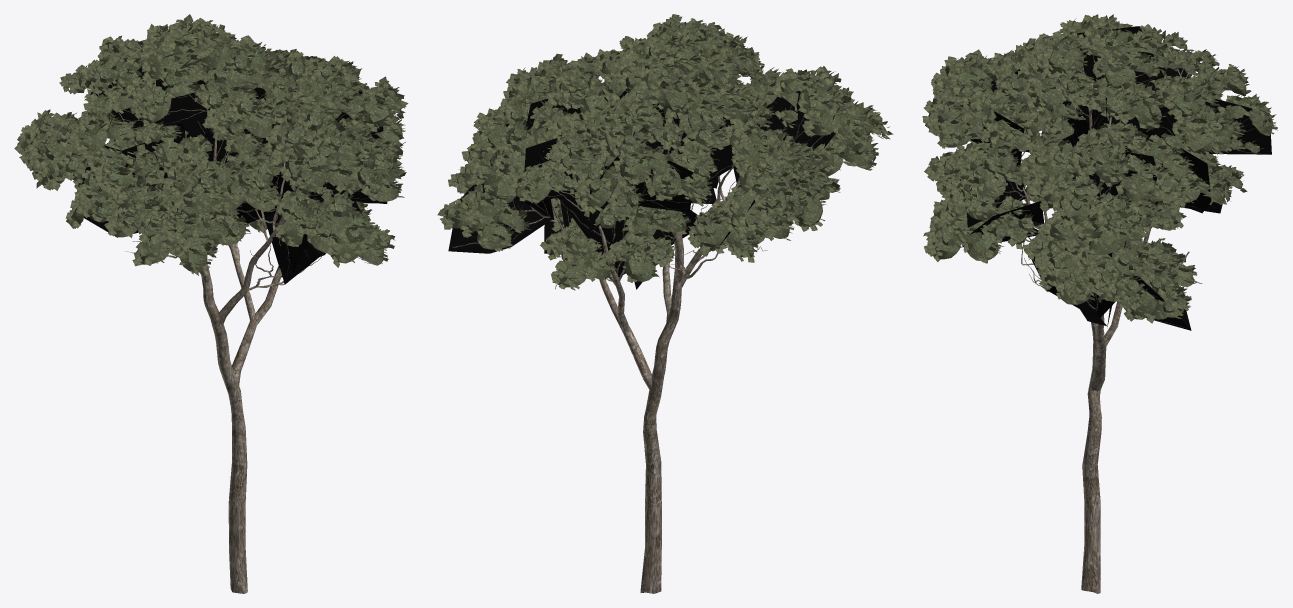
The model's file is J TREE.fbx.
The picture shows the model from 3 angles, left to right: view 1: azimuth 30°, elevation 25°; view 2: azimuth 150°, elevation 25°; view 3: azimuth 270°, elevation 25°; orthographic projection. The views are drawn at different scales.
Parts seen in each view (by area): view 1: Mesh; view 2: Mesh; view 3: Mesh.
Part boxes in pixels (bbox=[...]): Mesh: bbox=[14, 14, 408, 593]; Mesh: bbox=[437, 14, 893, 593]; Mesh: bbox=[922, 14, 1277, 593].
Size of the model in its own units: 1548 by 2328 by 1364.
